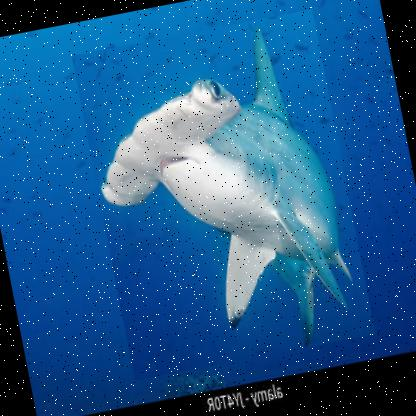hammerhead_Shark: (70, 8, 375, 382)
